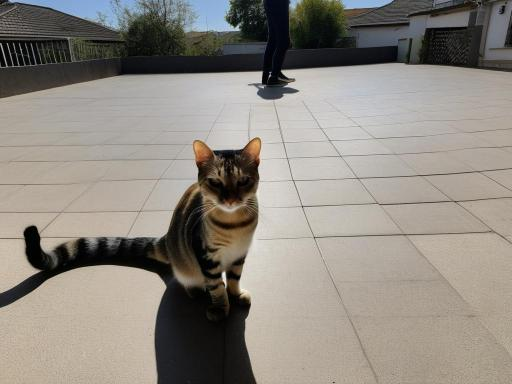cat_sitting: (24, 138, 260, 320)
